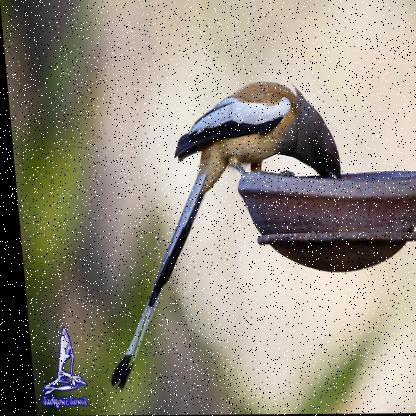Burung: (83, 81, 353, 391)
